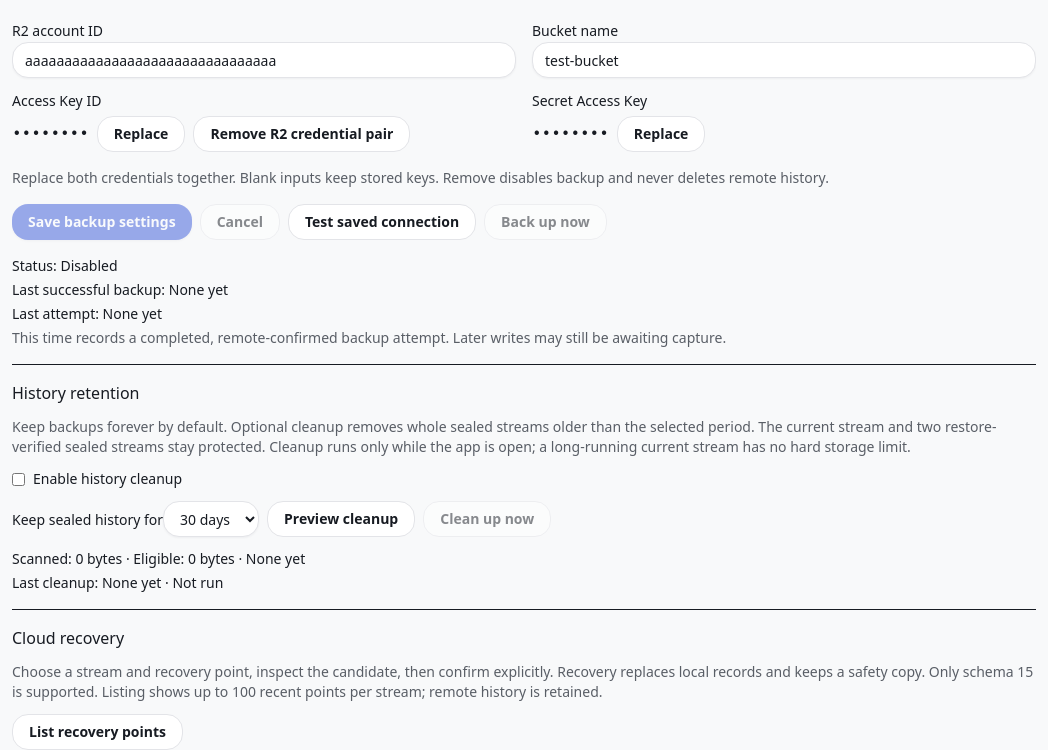
Test: rejects a repeated continuation while retaining the previous page
This screenshot has width=1048, height=750.
(page scrolled)
Click the button "List recovery points" at (98, 732), box [12,714,183,749]
(page scrolled)
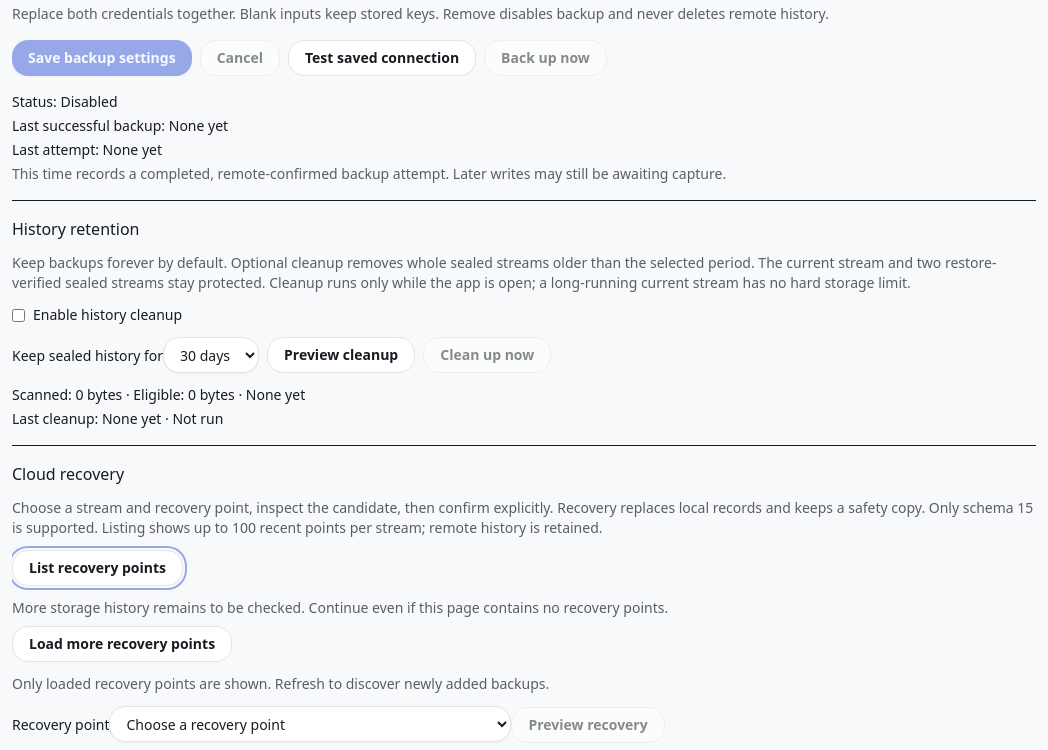
Click the button "Load more recovery points" at (122, 644), box [12,626,232,662]
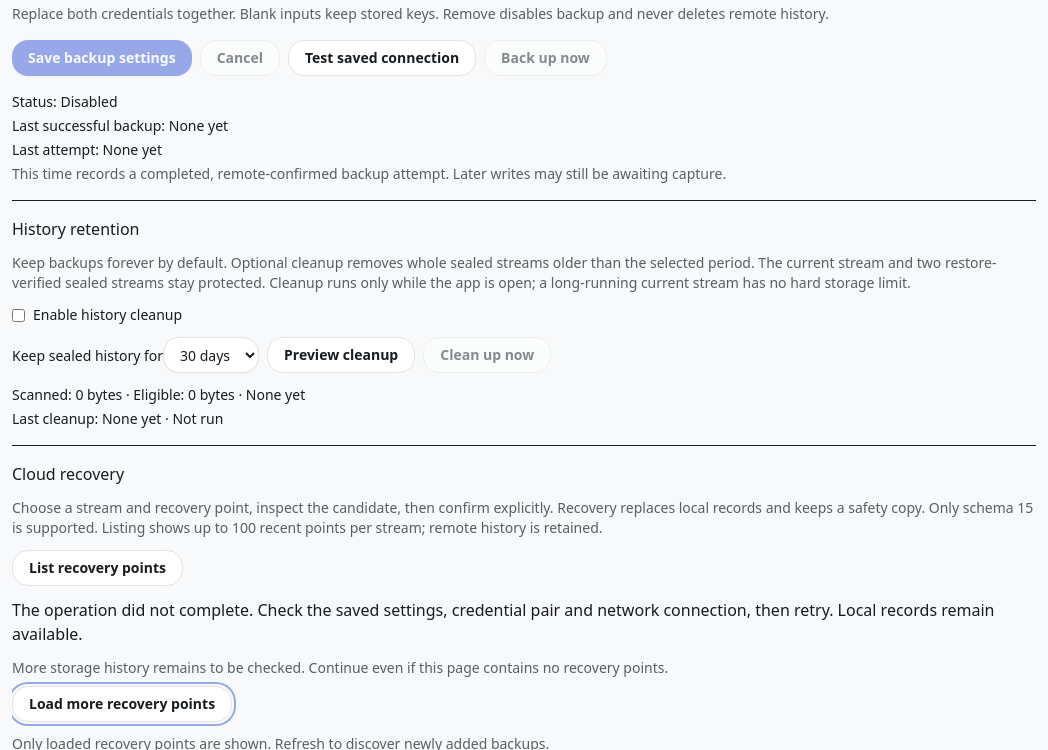
Now the 3rd message is shown, box [12,598,1036,646]
